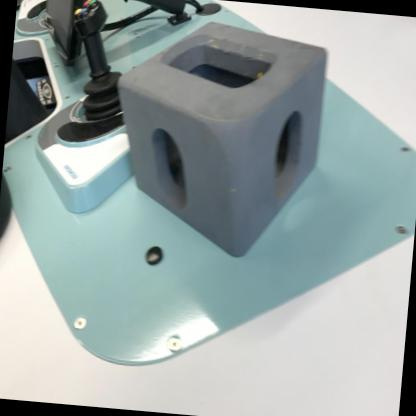CornerCasting: (107, 11, 332, 272)
